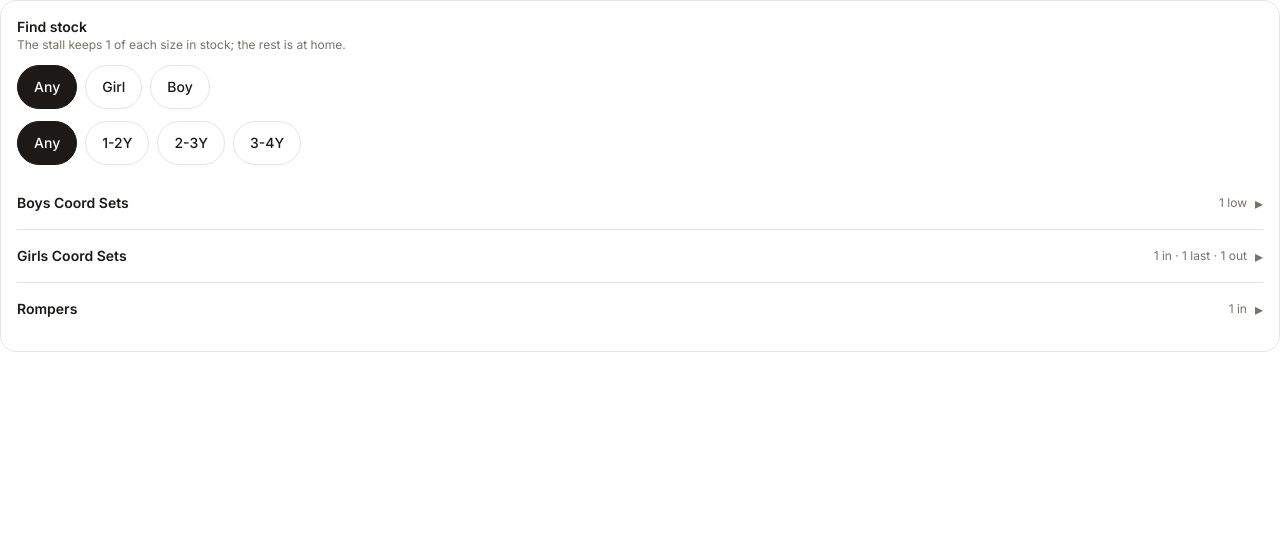
Test: StockFinder › lists categories collapsed with their counts, and drills down to sizes
Click the button "Girls Coord Sets 1 in · 1 last · 1 out ▸" at (72, 256), box 17,234 -> 1263,278
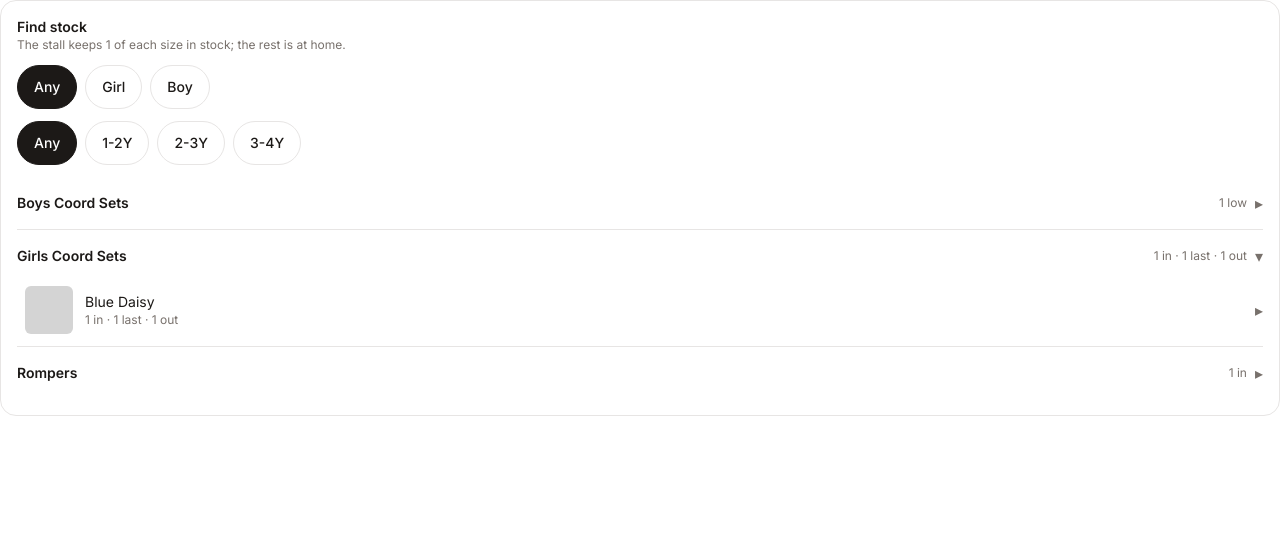
Click the button "Blue Daisy 1 in · 1 last · 1 out ▸" at (49, 310), box 25,286 -> 1263,334
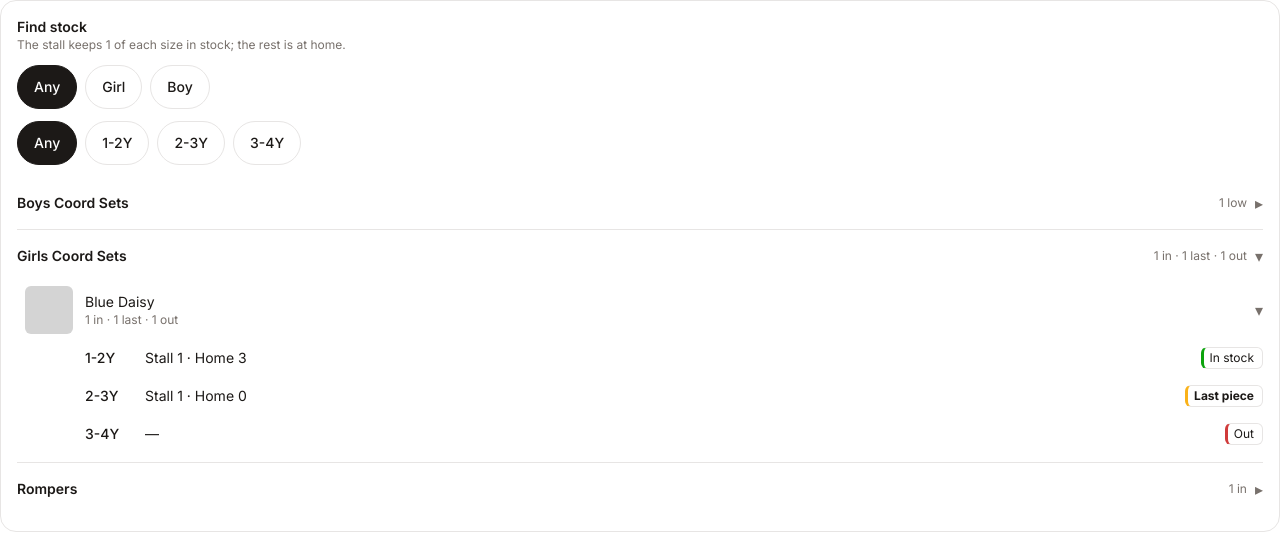
Now the list items read "1-2YStall 1 · Home 3In stock", "2-3YStall 1 · Home 0Last piece", "3-4Y—Out", in this order, box 85,342 -> 1263,374; 85,380 -> 1263,412; 85,418 -> 1263,450
